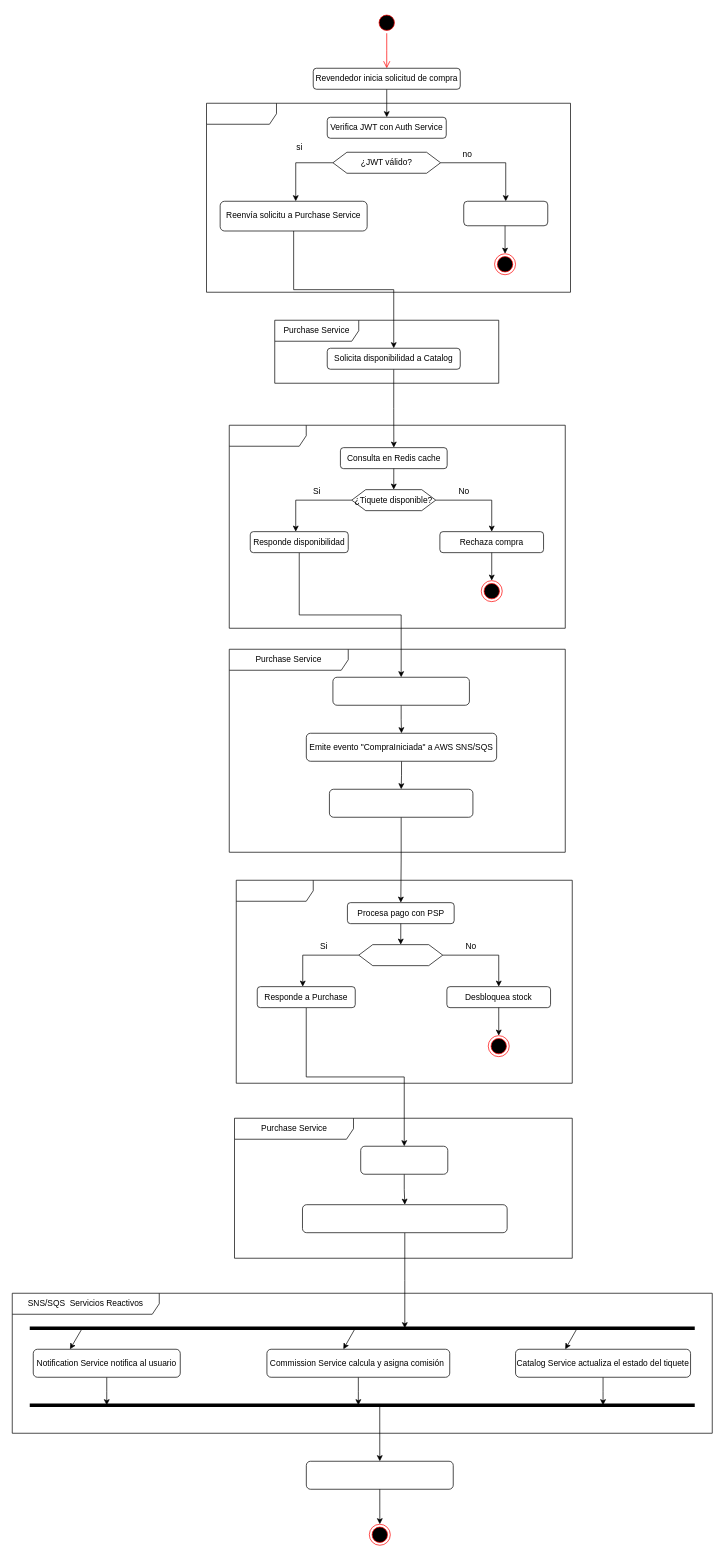
Some shapes in this 725 by 1558 pixel diagram are drawn without their labels. Here are the shapes that lost their labels. From the top down, the box of each, then its label:
(206, 103, 570, 292): API Gateway
(463, 201, 548, 226): Rechaza solicitud
(229, 425, 565, 628): Catalog Service
(332, 677, 469, 705): Bloquea temporalmente el stock
(329, 789, 473, 817): Solicita pago al Payment Service
(358, 944, 443, 966): ¿Pago exitoso?
(236, 880, 572, 1083): Payment Service
(360, 1146, 448, 1174): Confirma compra
(302, 1204, 507, 1233): Emite evento "CompraCompletada" a AWS SNS/SQS
(306, 1461, 453, 1489): Notificación de éxito al revendedor
